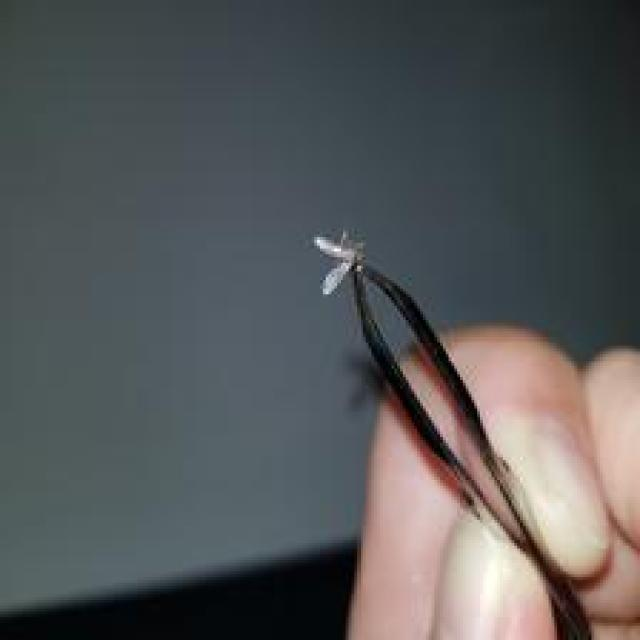Culex: (309, 225, 604, 640)
